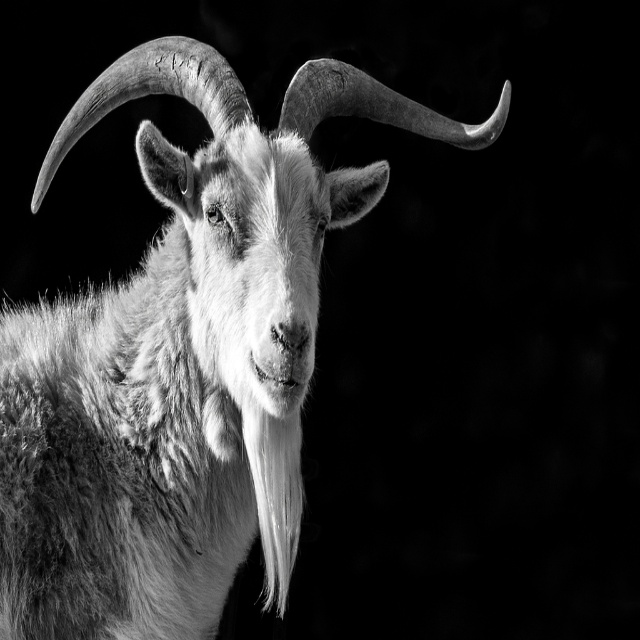Goat: (0, 36, 512, 639)
